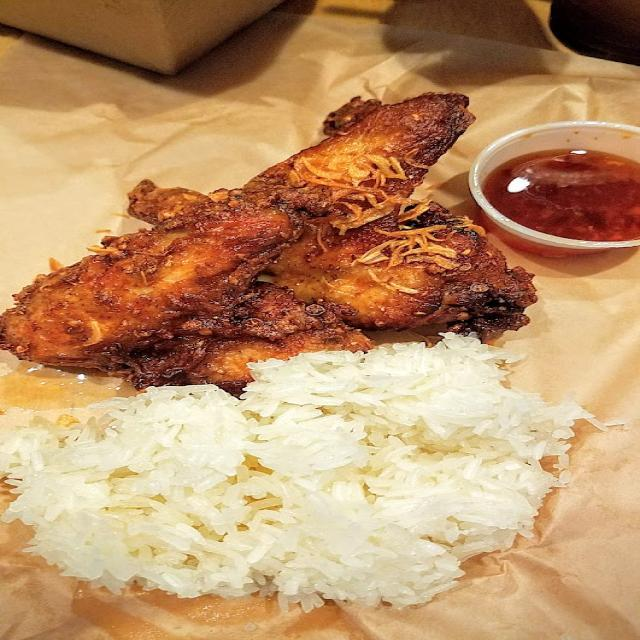thit ga: (0, 94, 547, 379)
xoi: (5, 342, 584, 613)
